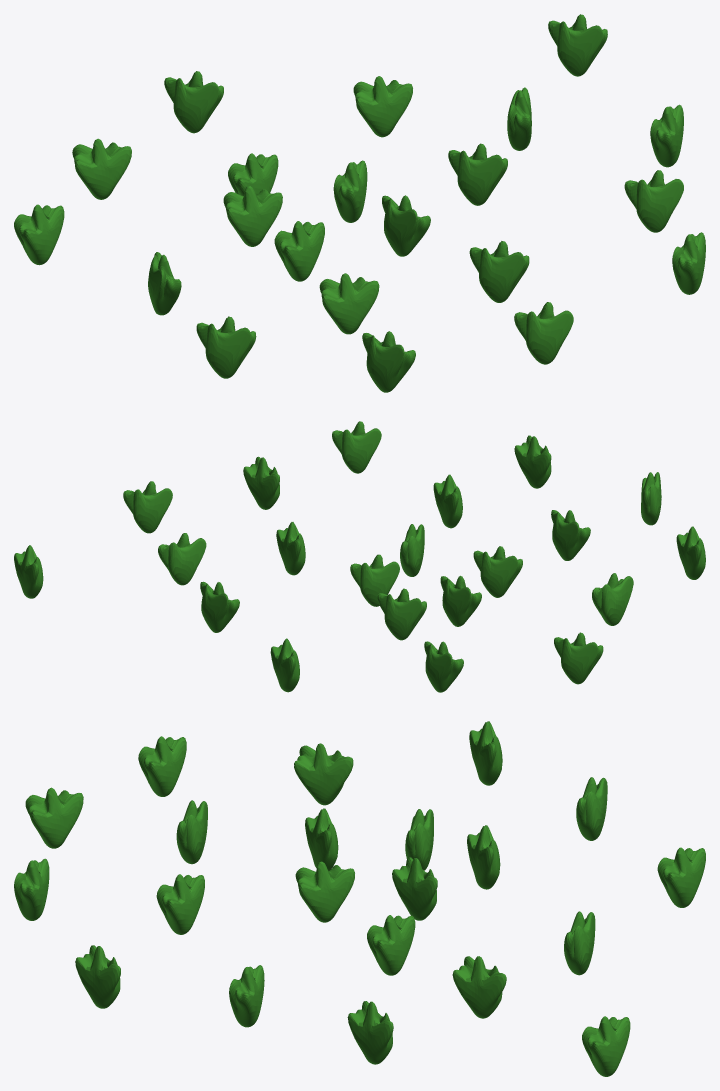
Rendered from трава.fbx.
3 renders of one model, top to bottom at view 1: azimuth 30°, elevation 25°; view 2: azimuth 150°, elevation 25°; view 3: azimuth 270°, elevation 25°, orthographic. The views are drawn at different scales.
Parts seen in each view (by area): view 1: Sphere.007, Sphere.008, Sphere.009, Sphere.002, Sphere.014, Sphere.013, Sphere.010, Sphere.011, Sphere.016, Sphere.017, Sphere.012, Sphere.006 (+9 smaller); view 2: Sphere.019, Sphere.020, Sphere.005, Sphere.006, Sphere, Sphere.015, Sphere.003, Sphere.004, Sphere.002, Sphere.017, Sphere.009, Sphere.008 (+9 smaller); view 3: Sphere.004, Sphere.001, Sphere.018, Sphere.015, Sphere.012, Sphere.010, Sphere.014, Sphere.011, Sphere.013, Sphere.020, Sphere.019, Sphere.003 (+9 smaller).
Part boxes in pixels (x1,y1,x2,y2): Sphere.007: [319, 273, 379, 334]; Sphere.008: [72, 138, 131, 199]; Sphere.009: [353, 76, 412, 137]; Sphere.002: [223, 186, 282, 246]; Sphere.014: [548, 14, 607, 76]; Sphere.013: [164, 71, 223, 133]; Sphere.010: [448, 143, 507, 205]; Sphere.011: [469, 241, 529, 302]; Sphere.016: [624, 170, 683, 232]; Sphere.017: [514, 302, 573, 364]; Sphere.012: [196, 316, 256, 378]; Sphere.006: [14, 204, 64, 265]; Sphere.019: [332, 421, 381, 473]; Sphere.020: [123, 481, 172, 533]; Sphere.005: [377, 588, 426, 640]; Sphere.006: [554, 632, 603, 684]; Sphere: [473, 546, 522, 597]; Sphere.015: [158, 533, 206, 585]; Sphere.003: [350, 554, 399, 606]; Sphere.004: [592, 573, 633, 625]; Sphere.002: [440, 575, 481, 626]; Sphere.017: [514, 435, 551, 488]; Sphere.009: [200, 581, 239, 632]; Sphere.008: [424, 641, 463, 692]; Sphere.004: [294, 743, 353, 805]; Sphere.001: [295, 861, 354, 922]; Sphere.018: [25, 787, 83, 848]; Sphere.015: [452, 956, 506, 1018]; Sphere.012: [138, 736, 186, 796]; Sphere.010: [367, 915, 415, 975]; Sphere.014: [582, 1016, 630, 1076]; Sphere.011: [156, 874, 204, 934]; Sphere.013: [657, 847, 705, 907]; Sphere.020: [347, 1001, 393, 1064]; Sphere.019: [75, 945, 120, 1008]; Sphere.003: [392, 857, 437, 920].
Size of the model in its own units: 1029 by 92.53 by 952.
